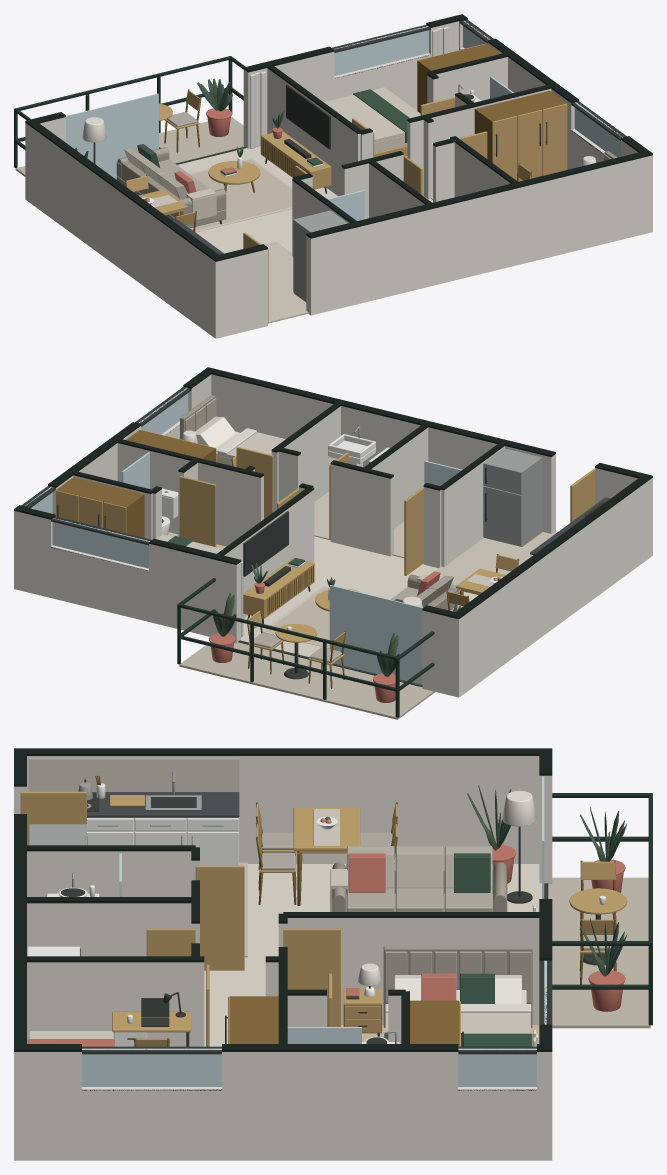
File: jda-interior-tipo-b.glb
3 views of the same model, one above another, from view 1: azimuth 30°, elevation 25°; view 2: azimuth 150°, elevation 25°; view 3: azimuth 270°, elevation 25° (orthographic). The views are drawn at different scales.
Visible parts, largest first — view 1: VIS__INTB_PAREDE, VIS__INTB_MADEIRA, VIS__INTB_CORTE, VIS__INTB_VIDRO, VIS__INTB_MADEIRA_ESC, VIS__INTB_PISO, VIS__INTB_TECIDO2, VIS__INTB_ESCURO, VIS__INTB_TAPETE, VIS__INTB_TECIDO, VIS__INTB_VARANDA, VIS__INTB_MOLHADO (+7 smaller); view 2: VIS__INTB_PAREDE, VIS__INTB_MADEIRA, VIS__INTB_VIDRO, VIS__INTB_CORTE, VIS__INTB_VARANDA, VIS__INTB_PISO, VIS__INTB_INOX, VIS__INTB_MADEIRA_ESC, VIS__INTB_ESCURO, VIS__INTB_GUARDACORPO, VIS__INTB_MOLHADO, VIS__INTB_ESTOFADO2 (+8 smaller); view 3: VIS__INTB_PAREDE, VIS__INTB_MADEIRA, VIS__INTB_CORTE, VIS__INTB_ESTOFADO2, VIS__INTB_TECIDO2, VIS__INTB_VIDRO, VIS__INTB_VARANDA, VIS__INTB_PISO, VIS__INTB_BRANCO, VIS__INTB_MADEIRA_ESC, VIS__INTB_ESCURO, VIS__INTB_TERRACOTA (+7 smaller).
Boxes of the visible parts, x1,y1,x2,y2 form: VIS__INTB_PAREDE: (25, 21, 652, 338); VIS__INTB_MADEIRA: (126, 43, 567, 322); VIS__INTB_CORTE: (25, 14, 652, 261); VIS__INTB_VIDRO: (66, 20, 622, 220); VIS__INTB_MADEIRA_ESC: (125, 44, 566, 231); VIS__INTB_PISO: (177, 146, 432, 323); VIS__INTB_TECIDO2: (151, 87, 420, 232); VIS__INTB_ESCURO: (93, 20, 626, 224); VIS__INTB_TAPETE: (190, 159, 292, 229); VIS__INTB_TECIDO: (82, 27, 596, 166); VIS__INTB_VARANDA: (15, 116, 243, 176); VIS__INTB_MOLHADO: (264, 241, 308, 322); VIS__INTB_PAREDE: (14, 374, 652, 697); VIS__INTB_MADEIRA: (56, 429, 594, 665); VIS__INTB_VIDRO: (25, 387, 462, 684); VIS__INTB_CORTE: (14, 367, 652, 619); VIS__INTB_VARANDA: (179, 642, 435, 719); VIS__INTB_PISO: (240, 536, 478, 657); VIS__INTB_INOX: (164, 426, 542, 546); VIS__INTB_MADEIRA_ESC: (56, 430, 519, 688); VIS__INTB_ESCURO: (21, 387, 604, 686); VIS__INTB_GUARDACORPO: (177, 578, 434, 717); VIS__INTB_MOLHADO: (168, 491, 555, 585); VIS__INTB_ESTOFADO2: (185, 398, 462, 662); VIS__INTB_PAREDE: (14, 756, 552, 1160); VIS__INTB_MADEIRA: (20, 791, 627, 1046); VIS__INTB_CORTE: (14, 748, 552, 1090); VIS__INTB_ESTOFADO2: (261, 832, 613, 1003); VIS__INTB_TECIDO2: (29, 758, 530, 1038); VIS__INTB_VIDRO: (82, 776, 546, 1086); VIS__INTB_VARANDA: (548, 877, 650, 1028); VIS__INTB_PISO: (204, 864, 541, 1046); VIS__INTB_BRANCO: (27, 783, 605, 1046); VIS__INTB_MADEIRA_ESC: (95, 775, 616, 1046); VIS__INTB_ESCURO: (61, 779, 605, 1054); VIS__INTB_TERRACOTA: (28, 818, 625, 1046).
Bounding box in the file's own units: 8.15 × 1.44 × 7.3.
